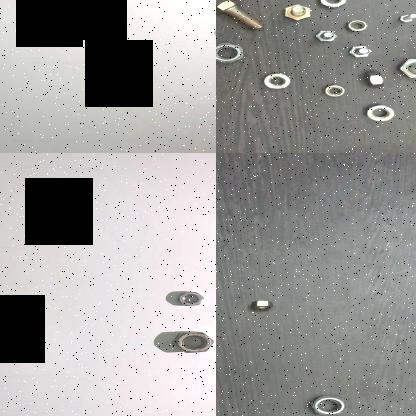Bolts: (216, 0, 269, 32), (393, 53, 416, 83), (282, 3, 315, 23), (345, 42, 373, 62), (313, 30, 339, 44), (391, 13, 416, 24)
NUTS: (164, 287, 214, 311), (173, 332, 216, 356), (305, 394, 350, 416), (359, 100, 399, 124), (261, 69, 295, 91), (216, 41, 246, 65), (358, 69, 384, 91), (314, 83, 348, 99), (341, 17, 367, 35), (246, 298, 276, 312), (316, 0, 349, 9)
